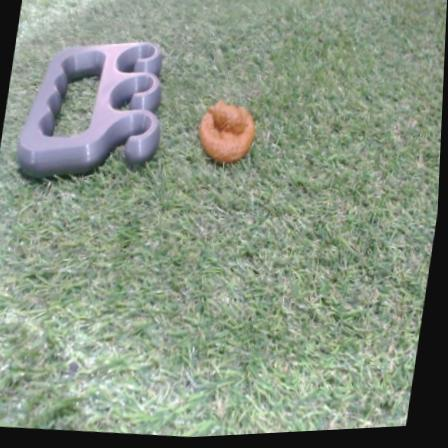dog-poop: (196, 94, 262, 169)
